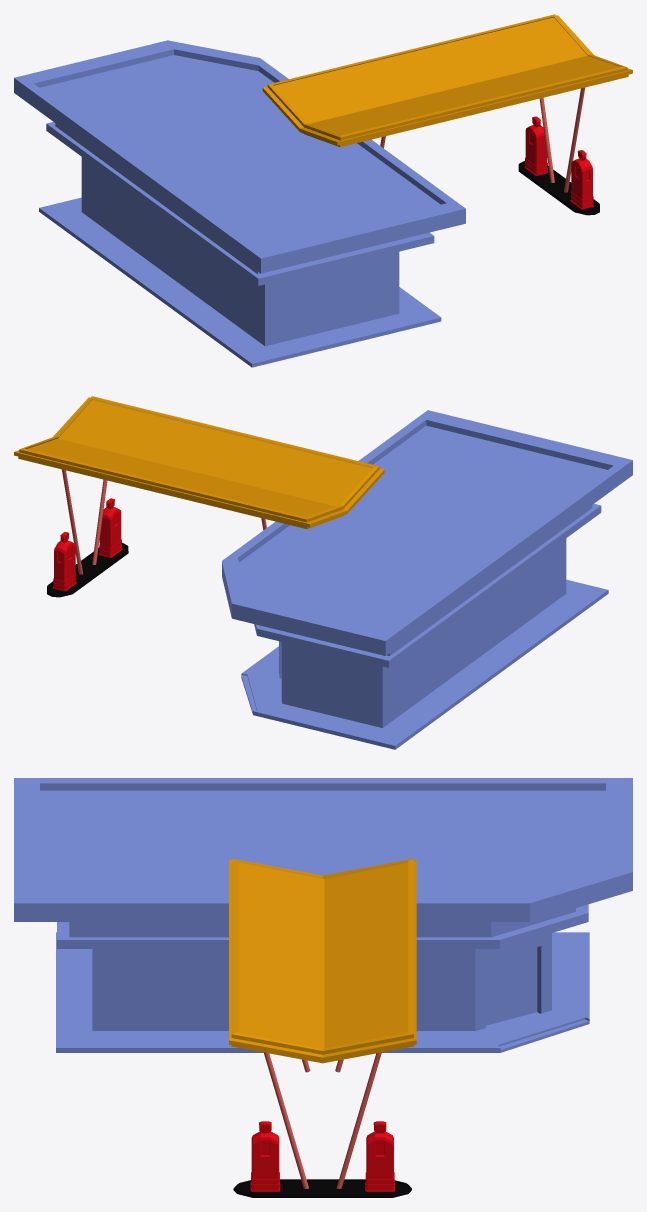
The model's file is GasStation.fbx.
The picture shows the model from 3 angles, top to bottom: view 1: azimuth 30°, elevation 25°; view 2: azimuth 150°, elevation 25°; view 3: azimuth 270°, elevation 25°; orthographic projection. The views are drawn at different scales.
Visible parts, largest first — view 1: Plane.002, Plane, Cube.001, Plane.001, Cylinder; view 2: Plane.002, Plane, Cube.001, Plane.001, Cylinder; view 3: Plane.002, Plane, Cube.001, Plane.001, Cylinder.
Boxes of the visible parts, x1,y1,x2,y2 form: Plane.002: (14,40,465,367); Plane: (262,14,632,147); Cube.001: (524,116,594,209); Plane.001: (518,160,599,215); Cylinder: (380,87,584,192); Plane.002: (222,410,632,749); Plane: (14,396,384,529); Cube.001: (52,498,122,591); Plane.001: (47,542,128,597); Cylinder: (61,469,266,574); Plane.002: (14,778,632,1052); Plane: (229,858,416,1063); Cube.001: (250,1121,394,1191); Plane.001: (233,1179,411,1197); Cylinder: (263,1052,381,1188).
Bounding box in the file's own units: 3558 × 1061 × 3326.
